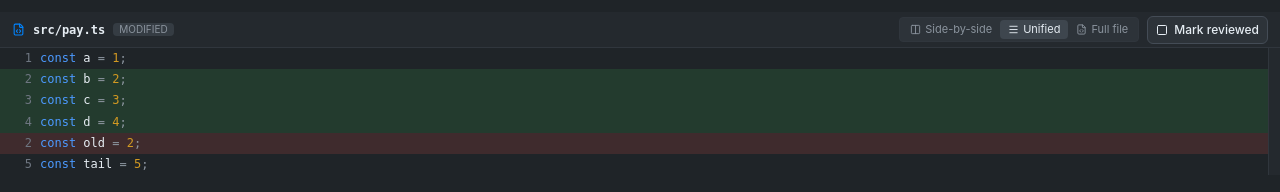
ReviewDiffPane › full file › drops a fetch that resolves after the reviewer has moved on
The width and height of the screenshot is (1280, 192).
Click the button "Full file". click: (1102, 30)
box: [1068,20,1136,39]
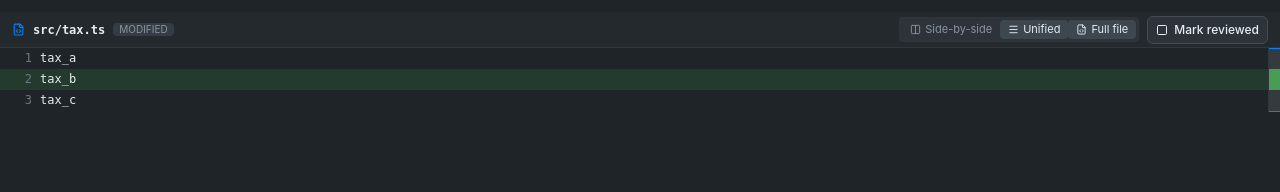
Check: the text "tax_c" is shown, box [40,93,76,107]
